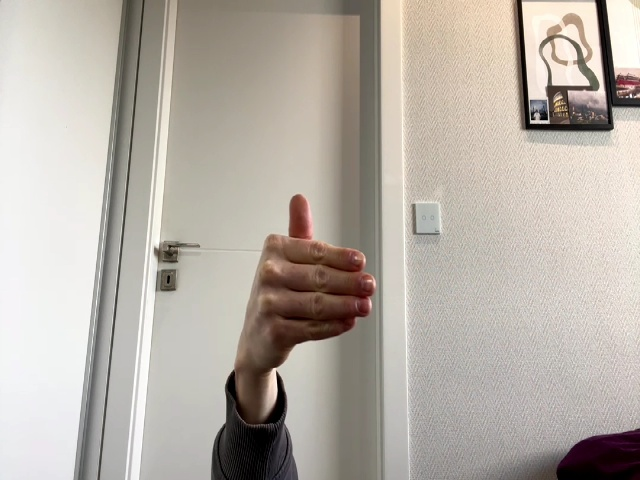M: (245, 194, 376, 362)
